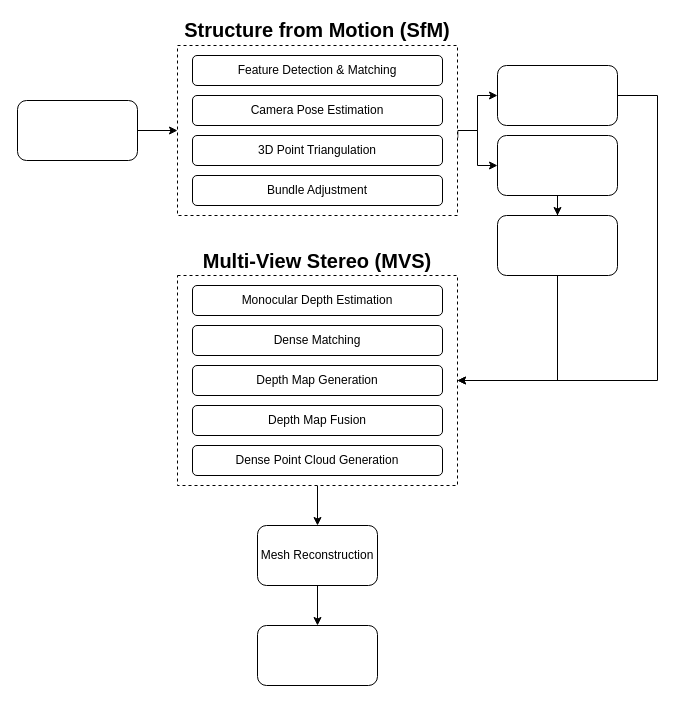
Image size: 683x703. Some labels were removed from this diagram. The shapes that lost their labels are listed below. From the top down, each one's centre as x and y in pixels, then its label:
At [557,95]: "Camera Poses".
At [77,130]: "Input Image Sequence".
At [557,165]: "Sparse Point Cloud Generation".
At [557,245]: "Error Analysis".
At [317,655]: "Final 3D Model".
